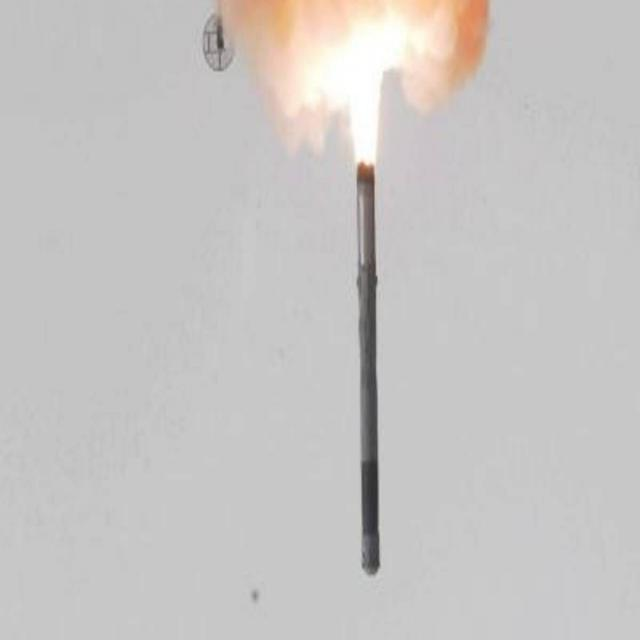Missile: (350, 151, 381, 594)
